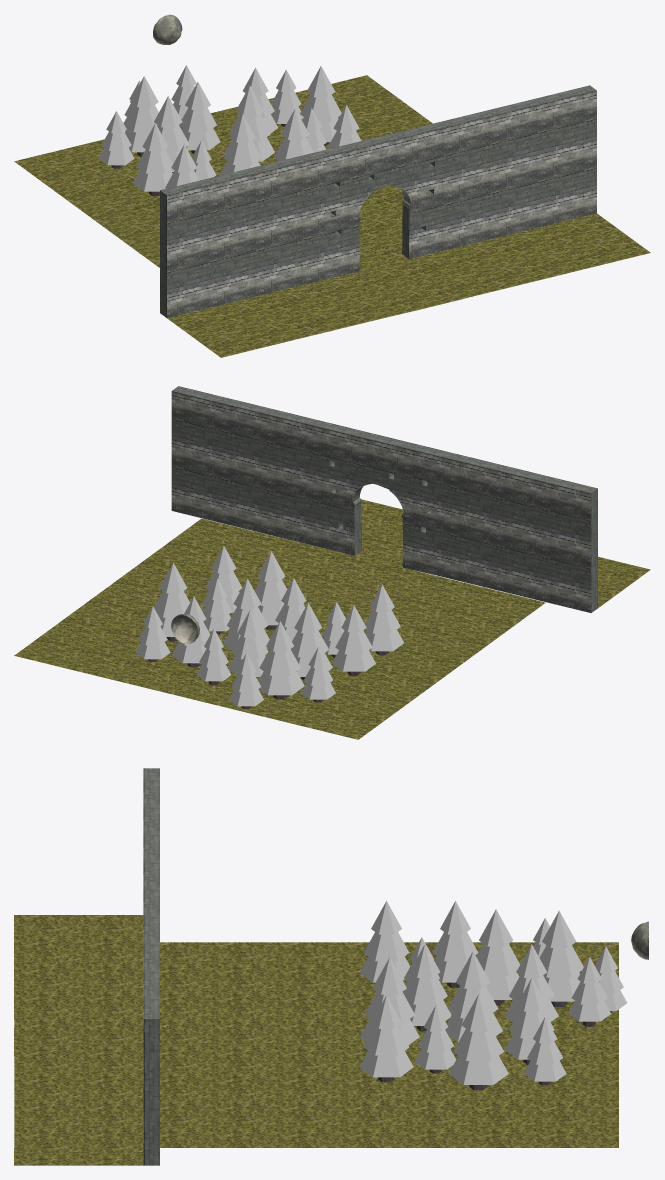
The model's file is MainMenuWall.fbx.
The picture shows the model from 3 angles, top to bottom: view 1: azimuth 30°, elevation 25°; view 2: azimuth 150°, elevation 25°; view 3: azimuth 270°, elevation 25°; orthographic projection. The views are drawn at different scales.
Parts seen in each view (by area): view 1: Circle, Cylinder, Sphere; view 2: Circle, Cylinder, Sphere; view 3: Circle, Cylinder.
Part boxes in pixels (x1,y1,x2,y2): Circle: (14,75,650,357); Cylinder: (98,65,361,196); Sphere: (153,14,182,44); Circle: (14,386,650,739); Cylinder: (135,546,403,709); Sphere: (171,614,199,643); Circle: (14,768,618,1165); Cylinder: (359,901,626,1090).
Bounding box in the file's own units: 37.99 × 10.53 × 40.83.
